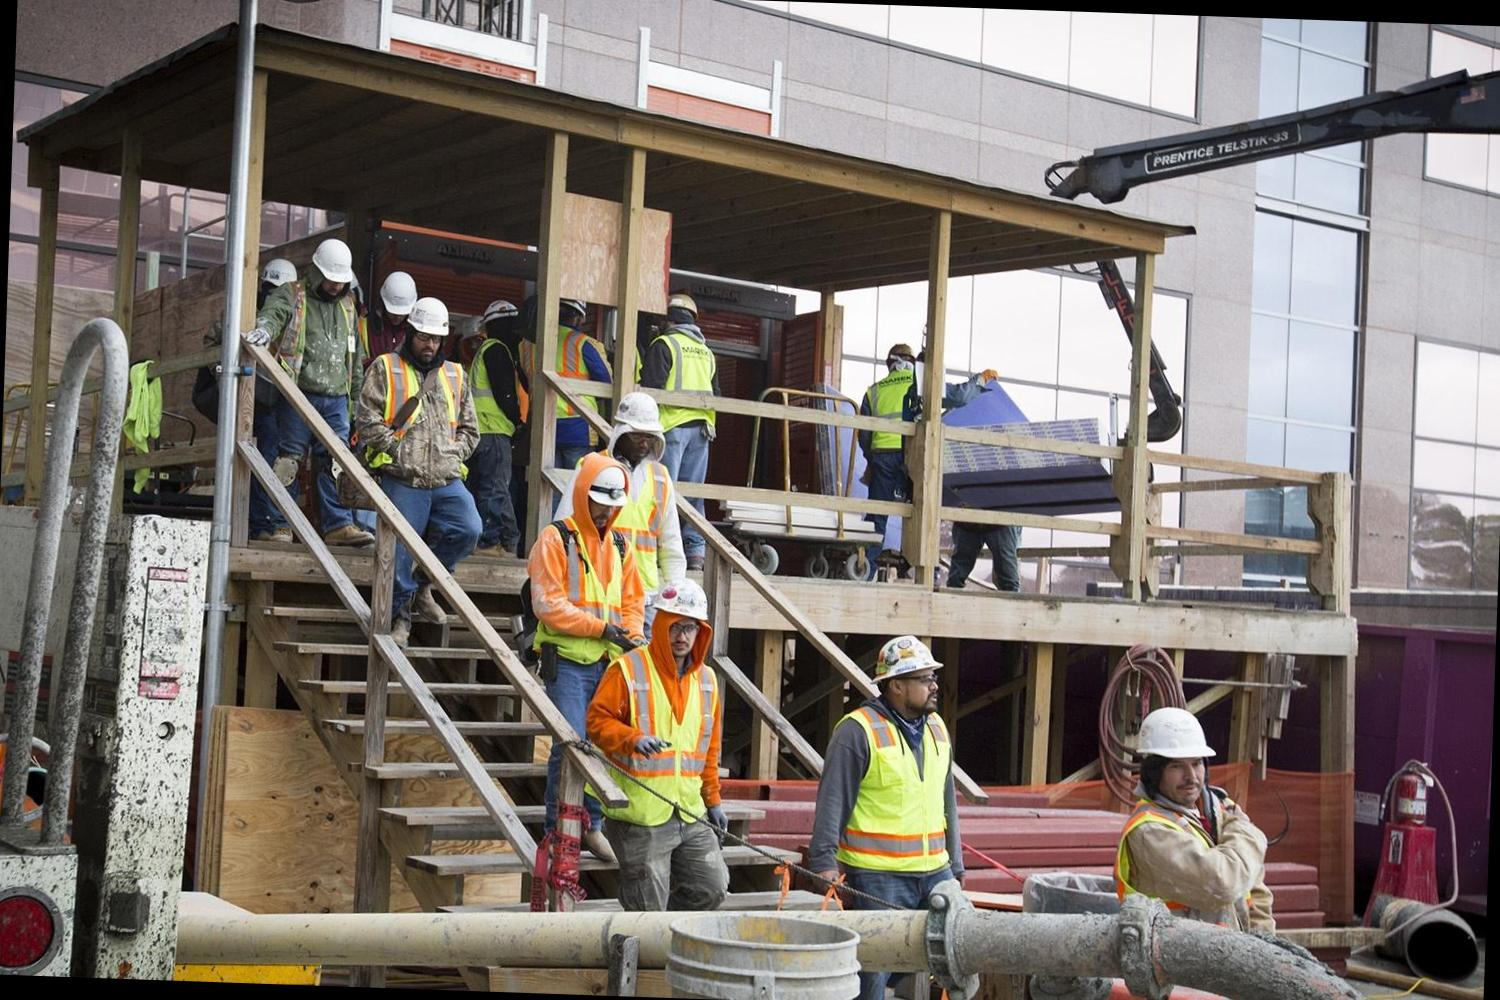Vest: (614, 652, 724, 818), (863, 706, 945, 860)
